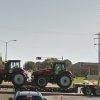Tractor: (7, 50, 77, 100)
